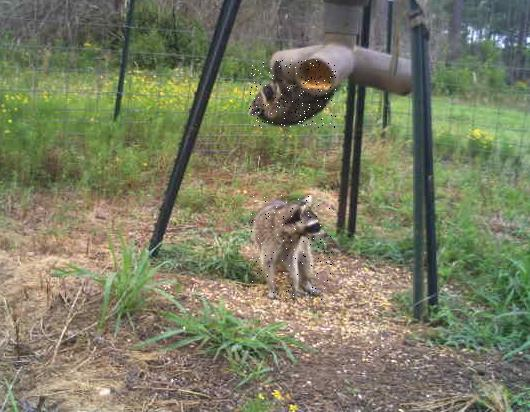Raccoon: (251, 196, 334, 302), (250, 60, 337, 128)
